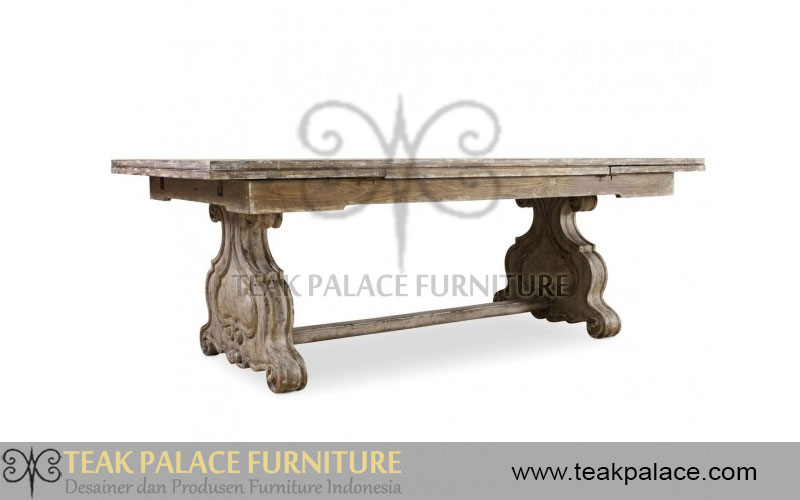Carving Table: (113, 135, 718, 395)
